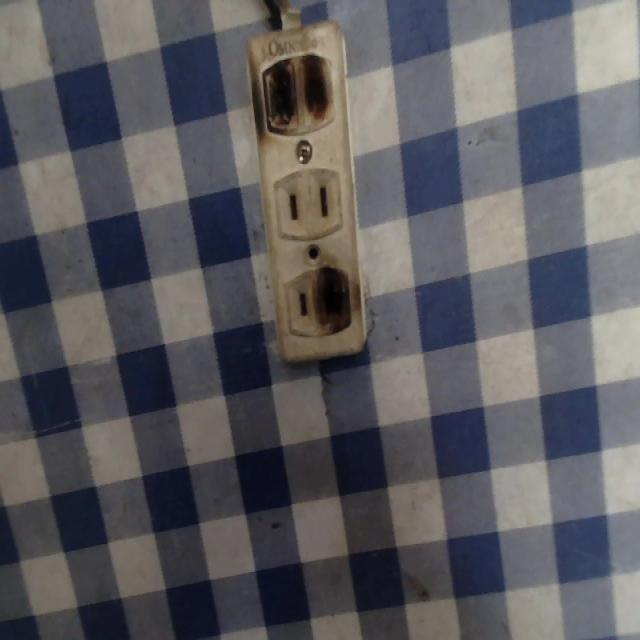-: (252, 47, 350, 136), (311, 262, 356, 338)
